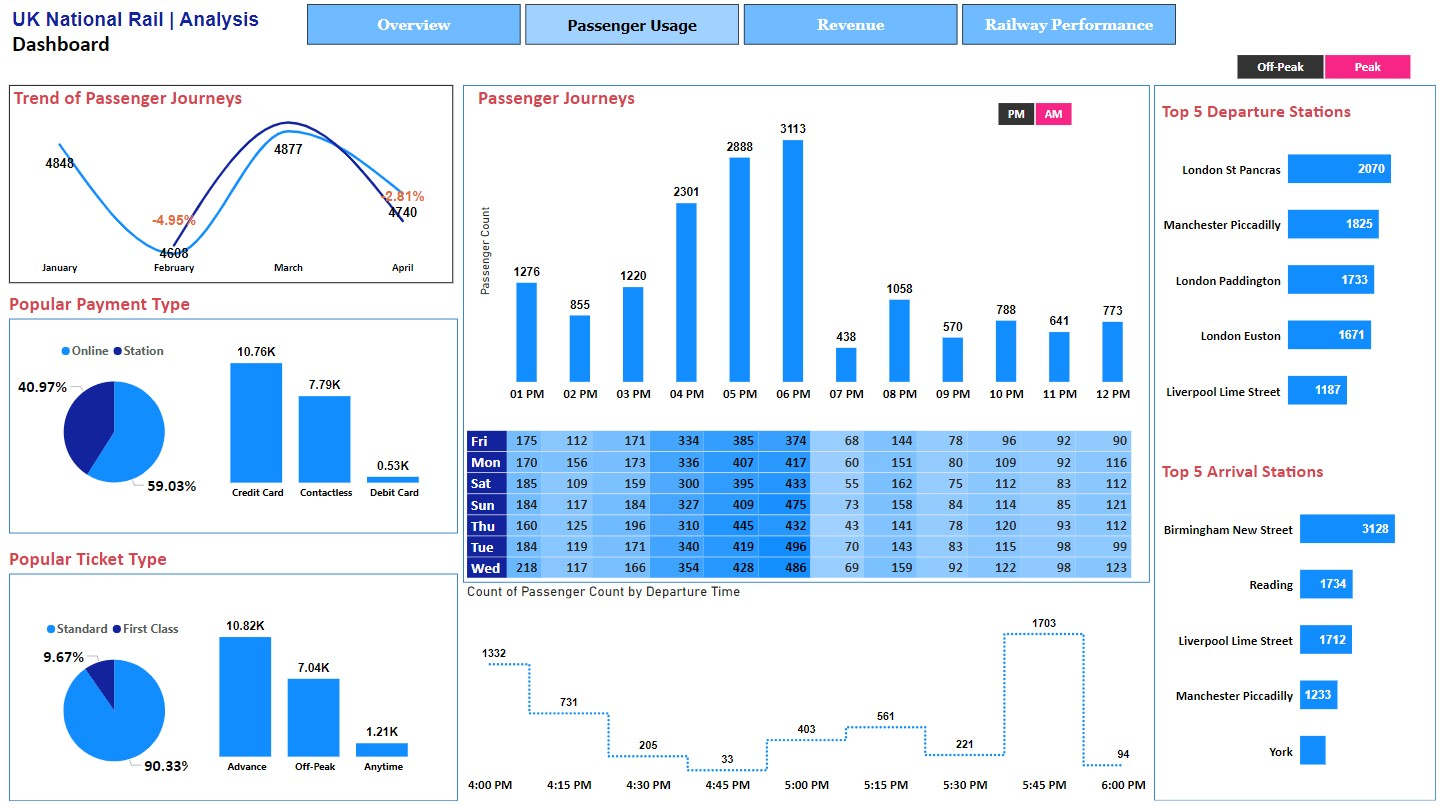

What the dashboard file says about the page in this screenshot:
{"tool":"powerbi","page":{"name":"Passenger Usage","canvas":[1780,1000],"ordinal":1},"visuals":[{"type":"shape","box":[1424.3,107.1,347.1,881.4],"z":0},{"type":"shape","title":"Popular Payment Type","box":[14.3,361.4,552.9,298.6],"z":1000},{"type":"shape","title":"Passenger Journeys","box":[574.3,107.1,845.7,612.9],"z":2000},{"type":"pivotTable","fields":{"Rows":["railway.DayOfWeek"],"Values":["CountNonNull(railway.Passenger Count)"],"Columns":["railway.NormalizedHour"]},"box":[574.3,484.3,845.7,237.1],"z":3000},{"type":"pageNavigator","title":"Uk Rail Dashboard","box":[381.8,7.4,1073,50.5],"z":4000},{"type":"textbox","box":[13.5,7.4,325.1,81.3],"z":5000},{"type":"lineChart","title":"Trend of Passenger Journeys","fields":{"Category":["railway.Date of Journey.Variation.Date Hierarchy.Month"],"Y":["CountNonNull(railway.Passenger Count)"],"Y2":["railway.Count of Passenger Count MoM%"]},"box":[14.3,107.1,547.1,244.3],"z":6000},{"type":"pieChart","title":"Popular Payment Type","fields":{"Category":["railway.Purchase Type"],"Y":["CountNonNull(railway.Passenger Count)"]},"box":[17.1,414.3,254.3,210],"z":7000},{"type":"columnChart","fields":{"Category":["railway.Payment Method"],"Y":["CountNonNull(railway.Passenger Count)"]},"box":[248.6,412.9,312.9,214.3],"z":8000},{"type":"shape","title":"Popular Ticket Type","box":[14.3,674.3,552.9,314.3],"z":9000},{"type":"pieChart","title":"Popular Payment Type","fields":{"Y":["CountNonNull(railway.Passenger Count)"],"Category":["railway.Ticket Class"]},"box":[17.1,755.7,254.3,211.4],"z":10000},{"type":"columnChart","fields":{"Y":["CountNonNull(railway.Passenger Count)"],"Category":["railway.Ticket Type"]},"box":[235.7,750,312.9,214.3],"z":11000},{"type":"columnChart","title":"Passenger Journeys","fields":{"Category":["railway.NormalizedHour"],"Y":["CountNonNull(railway.Passenger Count)"]},"box":[587.1,107.1,831.4,398.6],"z":12000},{"type":"slicer","fields":{"Values":["railway.PeakHour"]},"box":[1504.3,65.7,261.4,34.3],"z":13000},{"type":"slicer","fields":{"Values":["railway.TimePeriod"]},"box":[1209.4,124.4,137.9,34.5],"z":14000},{"type":"barChart","title":"Top 5 Departure Stations","fields":{"Y":["CountNonNull(railway.Passenger Count)"],"Category":["railway.Departure Station"]},"box":[1430,124.3,335.7,411.4],"z":15000},{"type":"barChart","title":"Top 5 Arrival Stations","fields":{"Y":["CountNonNull(railway.Passenger Count)"],"Category":["railway.Arrival Destination"]},"box":[1430,567.1,335.7,411.4],"z":16000},{"type":"lineChart","fields":{"Y":["CountNonNull(railway.Passenger Count)"],"Category":["railway.Departure Time"]},"box":[574,721,846,267],"z":17000}]}

Visuals, with their boxes in screenshot pixels (x1, y1, x2, y2), scaled from the page's 1780x1000 canvas onto the 1443x808 screenshot:
shape: Rect(1155, 87, 1436, 799)
"Popular Payment Type" shape: Rect(12, 292, 460, 533)
"Passenger Journeys" shape: Rect(466, 87, 1151, 582)
pivotTable - railway.DayOfWeek x CountNonNull(railway.Passenger Count): Rect(466, 391, 1151, 583)
"Uk Rail Dashboard" pageNavigator: Rect(310, 6, 1179, 47)
textbox: Rect(11, 6, 274, 72)
"Trend of Passenger Journeys" lineChart: Rect(12, 87, 455, 284)
"Popular Payment Type" pieChart: Rect(14, 335, 220, 504)
columnChart - railway.Payment Method x CountNonNull(railway.Passenger Count): Rect(202, 334, 455, 507)
"Popular Ticket Type" shape: Rect(12, 545, 460, 799)
"Popular Payment Type" pieChart: Rect(14, 611, 220, 781)
columnChart - CountNonNull(railway.Passenger Count) x railway.Ticket Type: Rect(191, 606, 445, 779)
"Passenger Journeys" columnChart: Rect(476, 87, 1150, 409)
slicer - railway.PeakHour: Rect(1219, 53, 1431, 81)
slicer - railway.TimePeriod: Rect(980, 101, 1092, 128)
"Top 5 Departure Stations" barChart: Rect(1159, 100, 1431, 433)
"Top 5 Arrival Stations" barChart: Rect(1159, 458, 1431, 791)
lineChart - CountNonNull(railway.Passenger Count) x railway.Departure Time: Rect(465, 583, 1151, 798)
